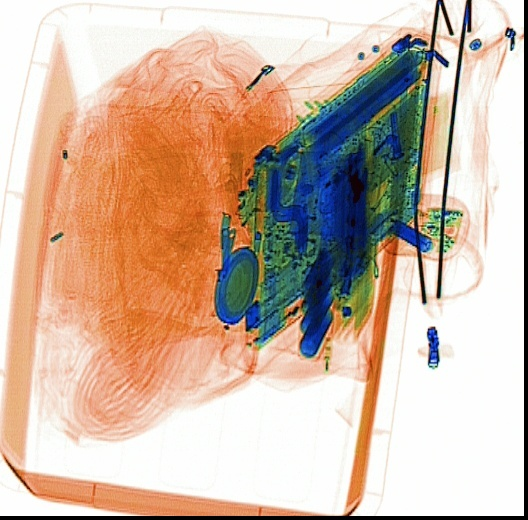powerbank: (294, 244, 335, 363)
